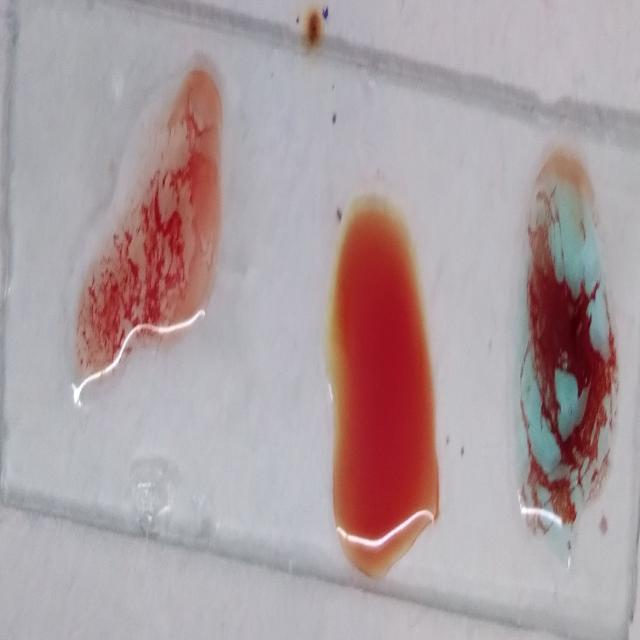A: (516, 156, 619, 554)
D: (76, 58, 225, 390)
